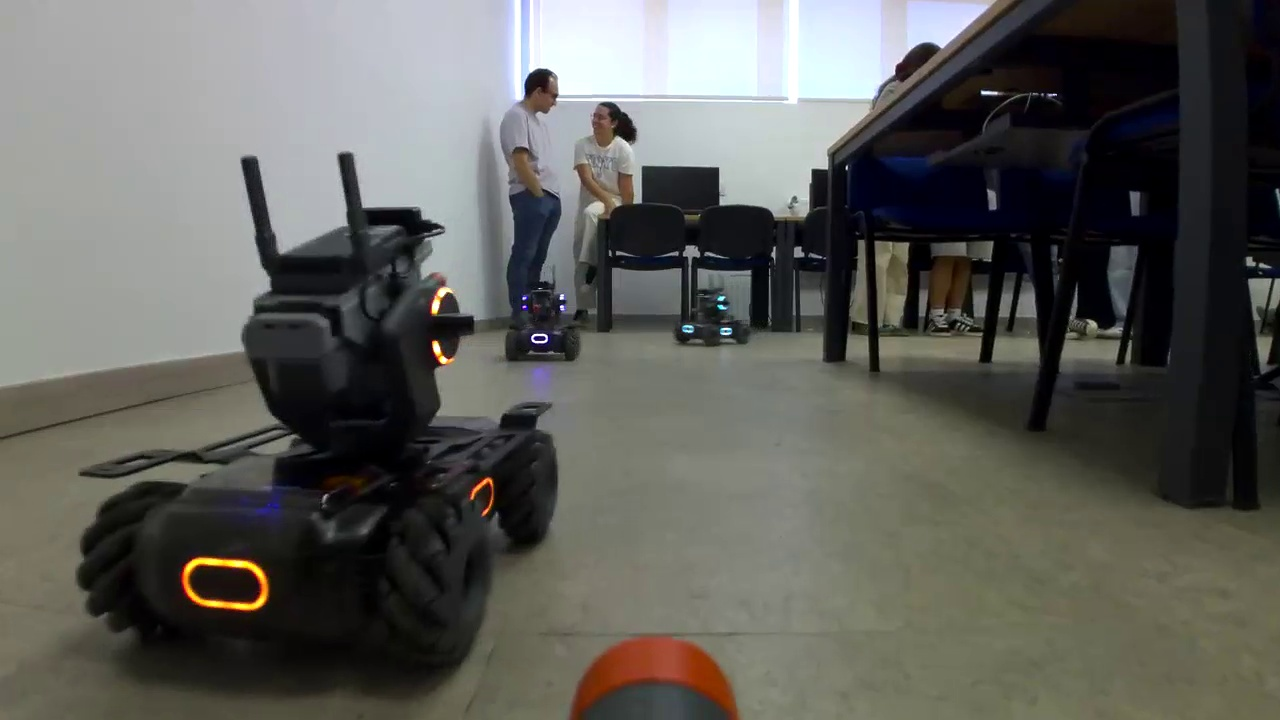robot: (50, 227, 573, 695), (508, 272, 575, 370), (683, 290, 745, 350)
